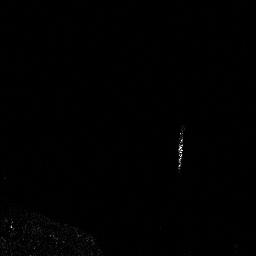ship: (175, 126, 186, 169)
